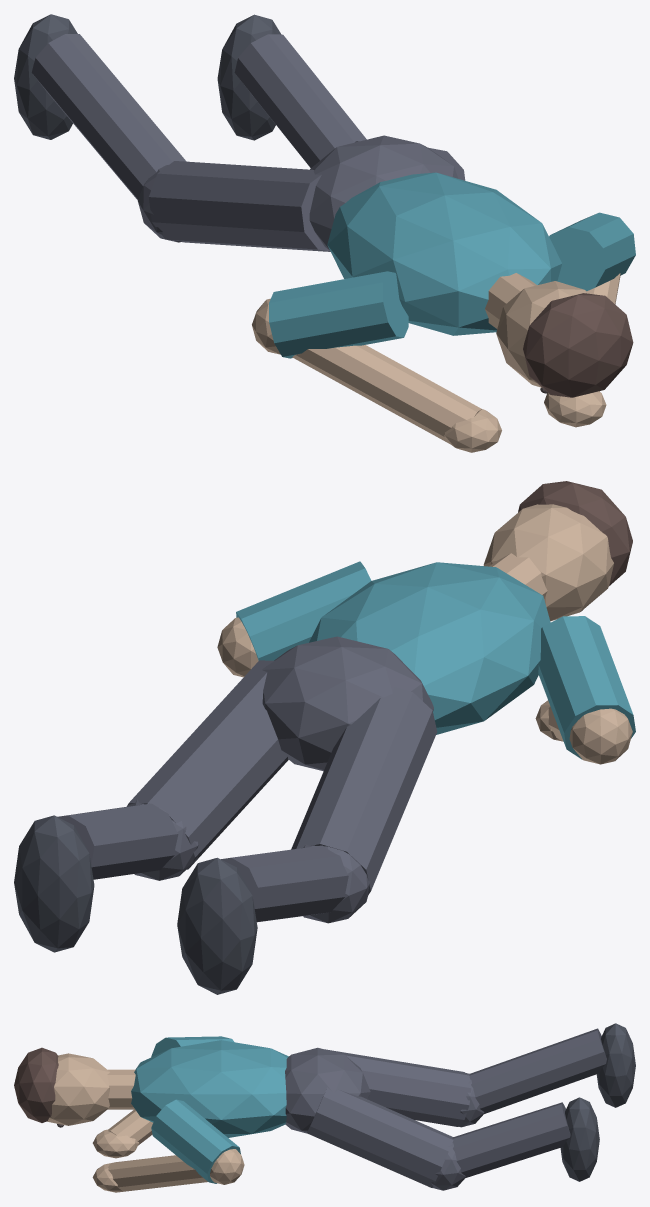
3 renders of one model, top to bottom at view 1: azimuth 30°, elevation 25°; view 2: azimuth 150°, elevation 25°; view 3: azimuth 270°, elevation 25°, orthographic. The views are drawn at different scales.
Parts seen in each view (by area): view 1: world; view 2: world; view 3: world.
Part boxes in pixels (x1,y1,x2,y2): world: (14,14,635,452); world: (14,481,635,994); world: (14,1023,635,1192).
Size of the model in its own units: 0.93 by 0.4362 by 2.
